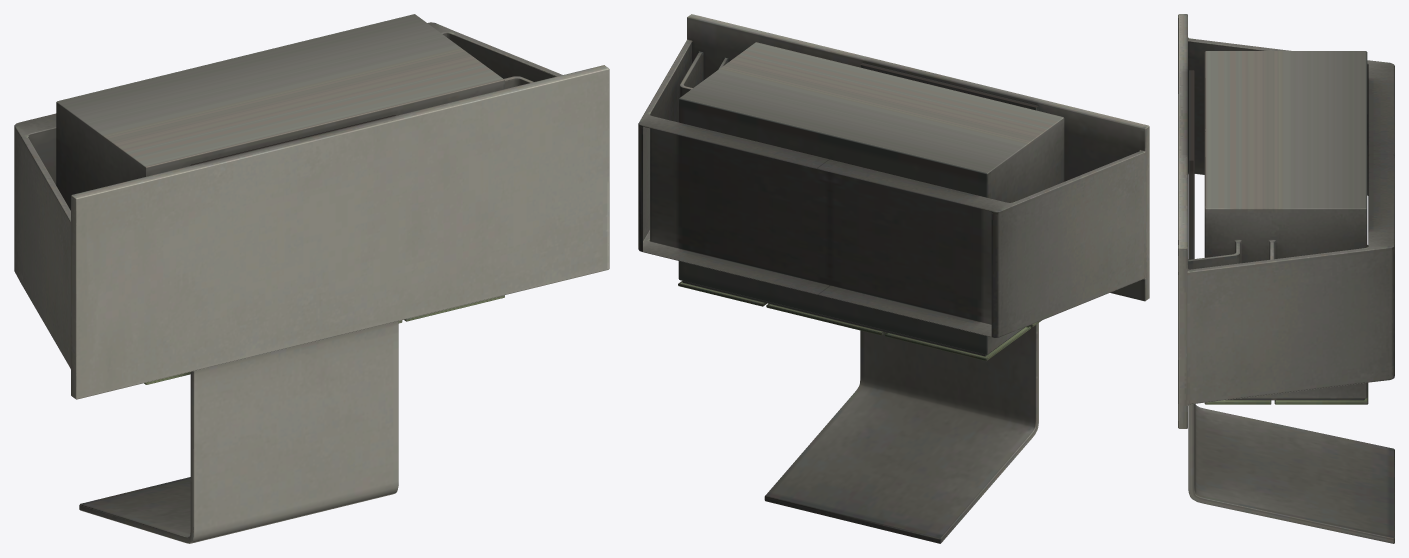
File: nt_2020_modern_desk_LOD0.obj
The picture shows the model from 3 angles, left to right: view 1: azimuth 30°, elevation 25°; view 2: azimuth 150°, elevation 25°; view 3: azimuth 270°, elevation 25°; orthographic projection. The views are drawn at different scales.
Parts seen in each view (by area): view 1: mtl_nt_2020_modern_desk; view 2: mtl_nt_2020_modern_desk; view 3: mtl_nt_2020_modern_desk.
Boxes of the visible parts, x1,y1,x2,y2 form: mtl_nt_2020_modern_desk: (14,14,609,543); mtl_nt_2020_modern_desk: (638,14,1149,543); mtl_nt_2020_modern_desk: (1178,14,1394,543).
Size of the model in its own units: 211 by 162 by 82.55.
